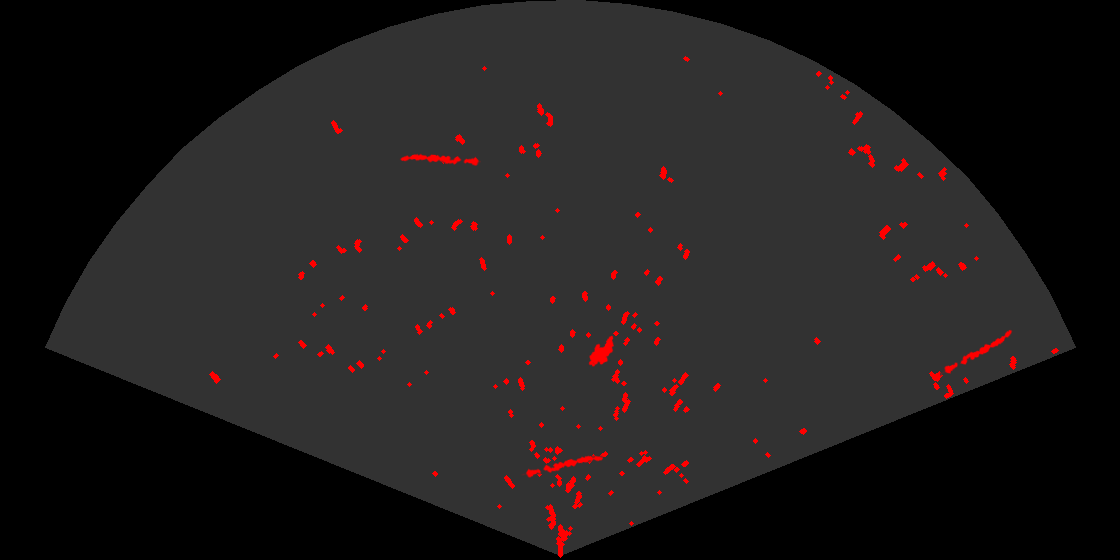AUV: (587, 334, 615, 368)
chain: (940, 328, 1014, 377), (520, 454, 604, 479), (399, 152, 481, 167)
